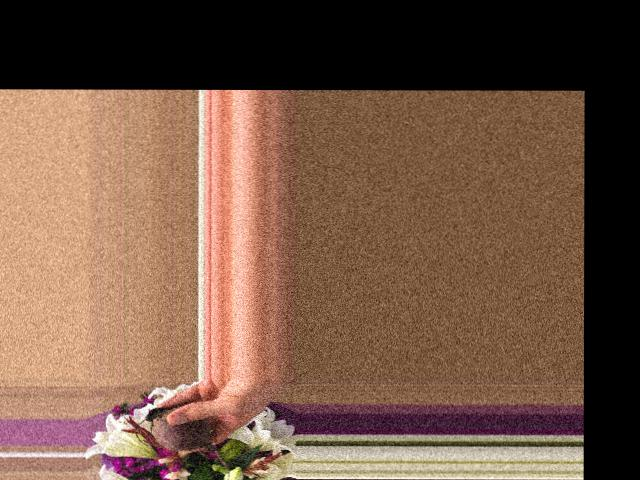beet: (134, 406, 229, 480)
